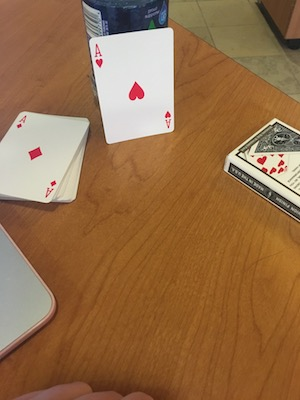AceOfDiamonds: (4, 106, 84, 210)
AceOfHearts: (81, 25, 177, 149)
